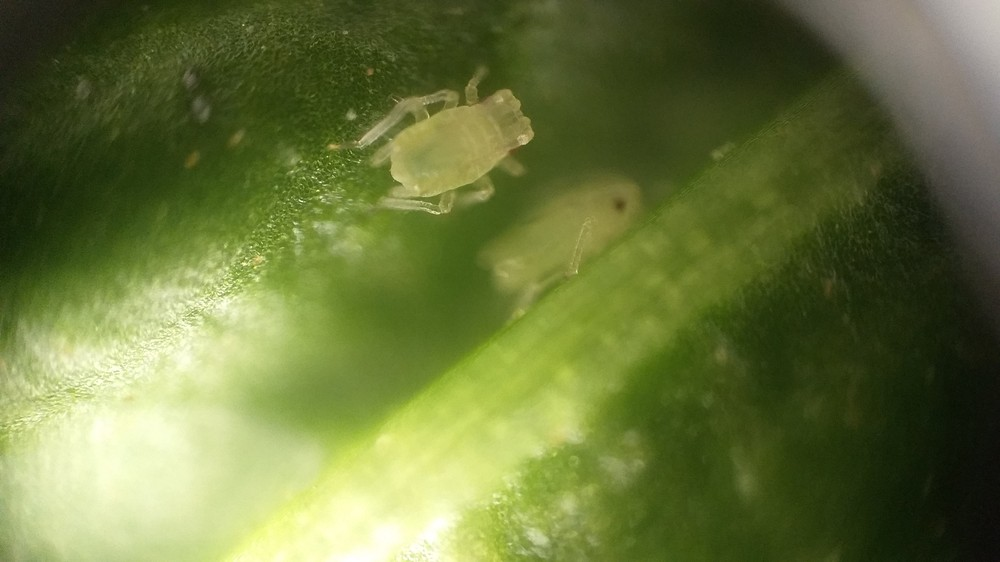Pulgon: (344, 58, 552, 215), (482, 162, 653, 333)
